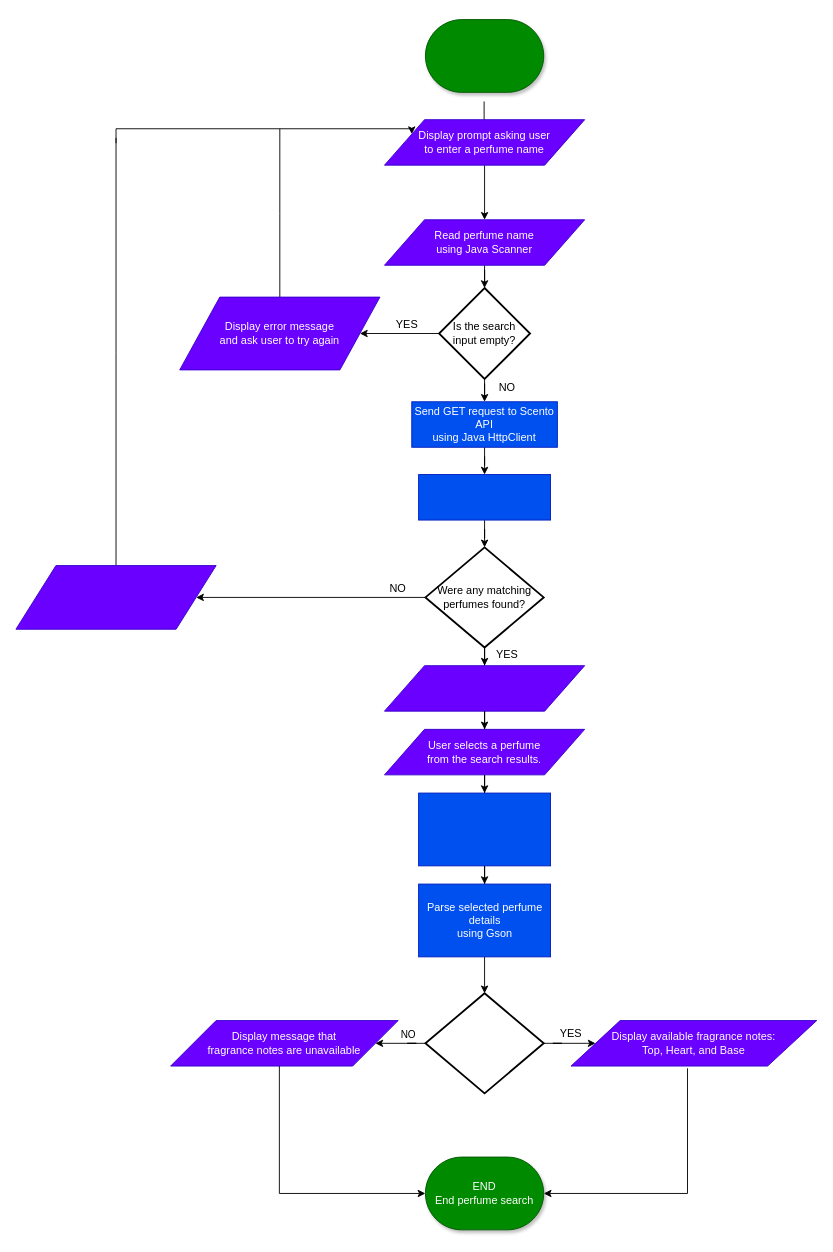
Some shapes in this 833 by 1252 pixel diagram are drawn without their labels. Here are the shapes that lost their labels. From the top down, the centre of each, then its label:
At (x=485, y=57): "START Start ScentSavvy (main())".
At (x=484, y=497): "Parse JSON response using Gson".
At (x=115, y=597): "Display no-results message".
At (x=484, y=688): "Display up to five matching perfume results".
At (x=484, y=829): "Retrieve selected perfume details from Scento API using HttpClient".
At (x=484, y=1043): "Are fragrance notes available?".
